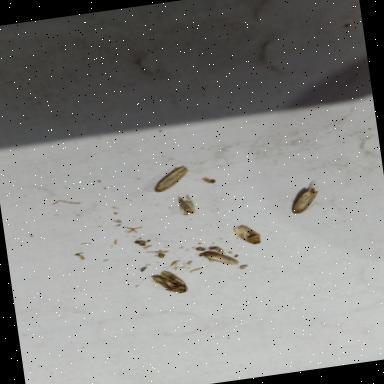pbw: (149, 268, 190, 297), (289, 181, 323, 214), (152, 164, 192, 192), (202, 247, 240, 269), (234, 222, 262, 247)
